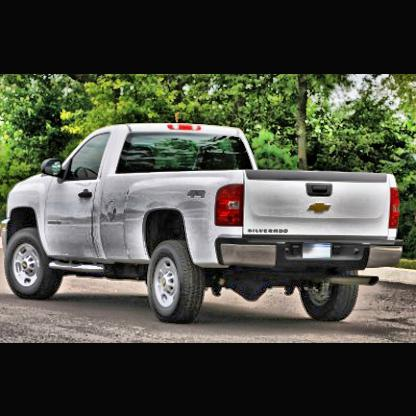Chevrolet Silverado 2500HD Regular Cab 2012: (4, 125, 403, 322)
